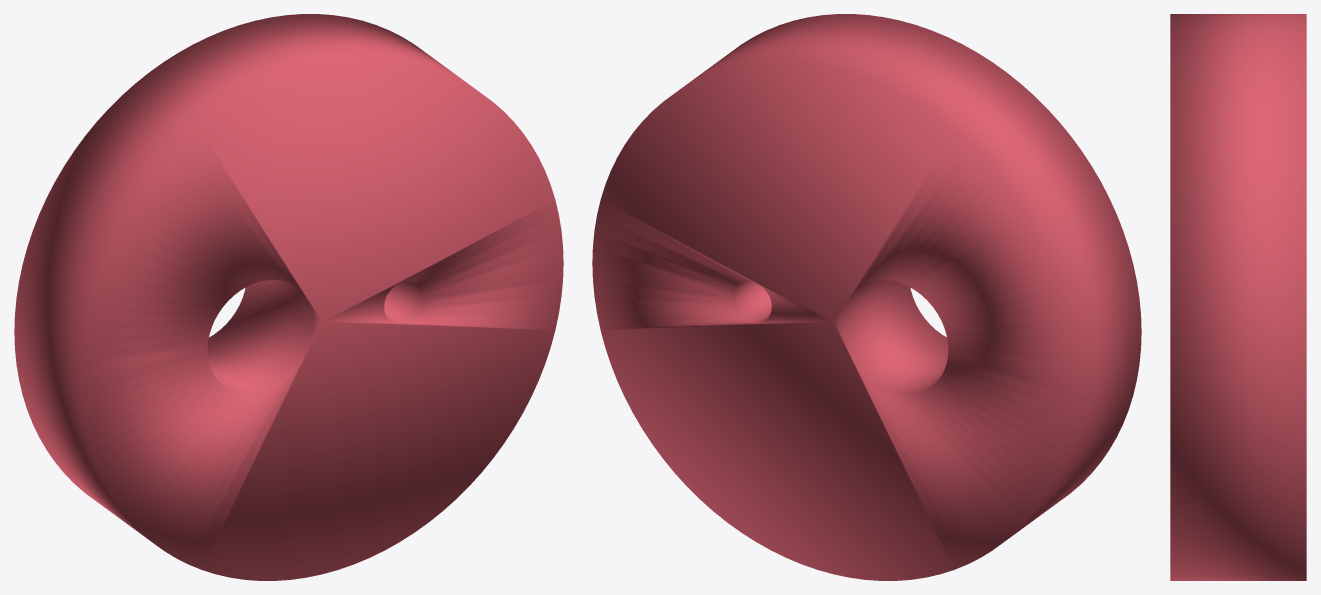
File: bs2309-3-cap-proxy-2548ba53aff6.glb
The picture shows the model from 3 angles, left to right: view 1: azimuth 30°, elevation 25°; view 2: azimuth 150°, elevation 25°; view 3: azimuth 270°, elevation 25°; orthographic projection.
Visible parts, largest first — view 1: BS2309-3_Cap_Body; view 2: BS2309-3_Cap_Body; view 3: BS2309-3_Cap_Body.
Boxes of the visible parts, x1=… form: BS2309-3_Cap_Body: x1=14, y1=14, x2=563, y2=580; BS2309-3_Cap_Body: x1=592, y1=14, x2=1141, y2=580; BS2309-3_Cap_Body: x1=1170, y1=14, x2=1306, y2=580.
Size of the model in its own units: 0.025 by 0.025 by 0.006.
